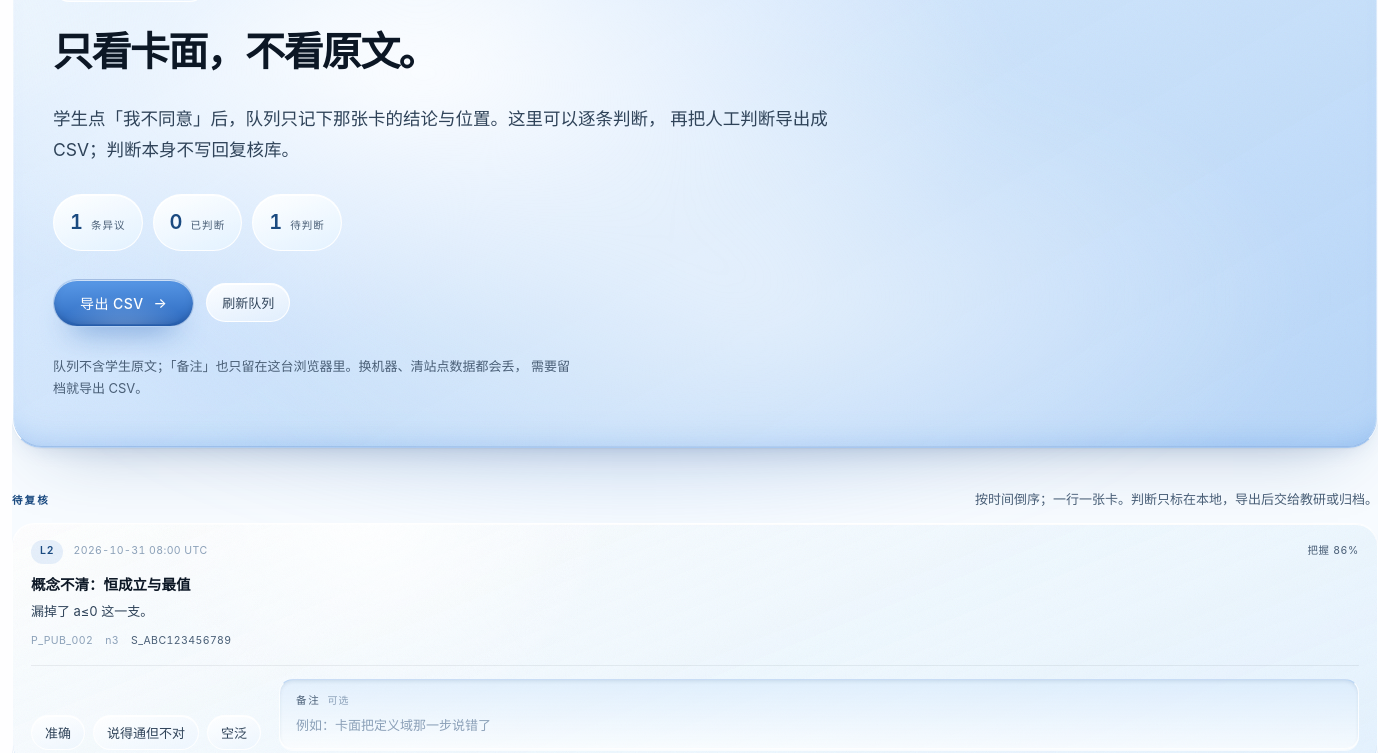
ReviewBoard › exports the queue and the judgment as CSV
(page scrolled)
expect the text "概念不清：恒成立与最值" is shown: met, box [31,576,190,592]
Click the button "准确" at (58, 732), box [31,715,85,750]
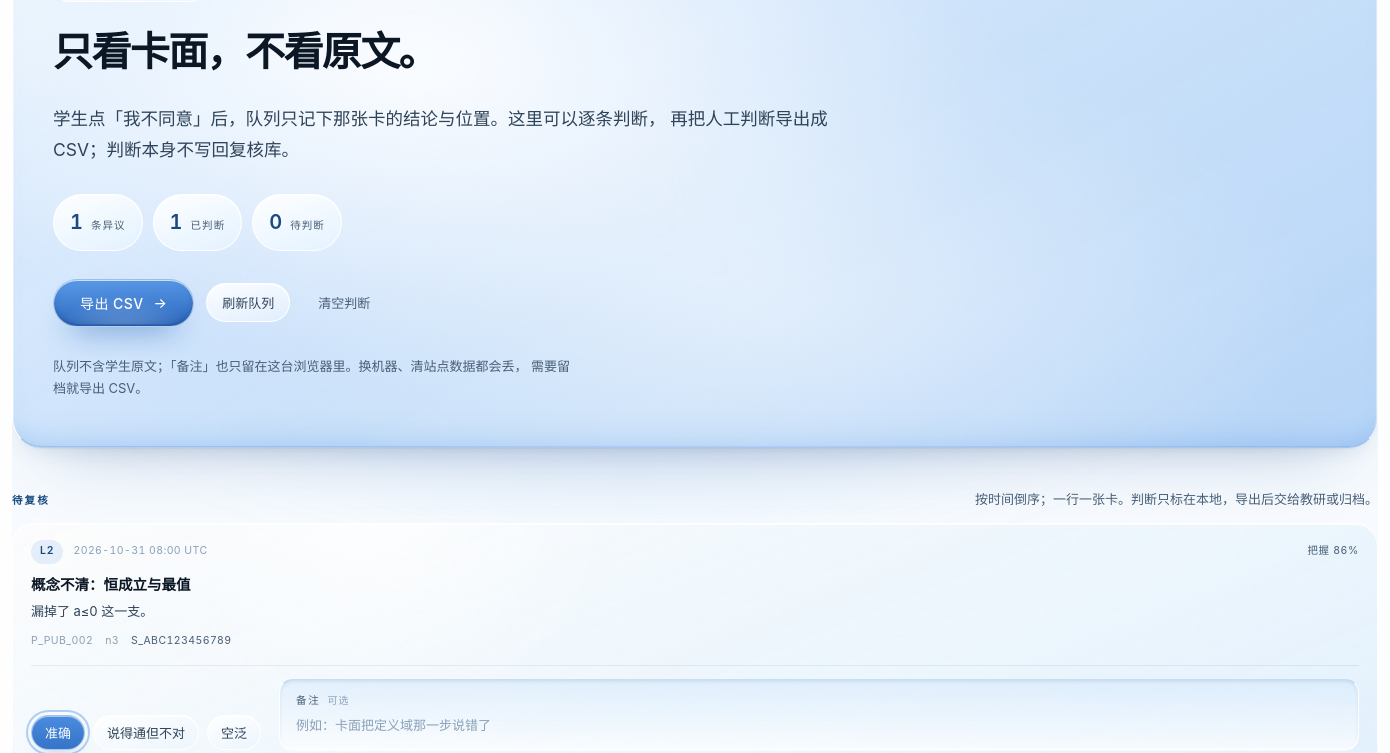
Click the button "导出 CSV →" at (124, 302), box [53,278,194,326]
(page scrolled)
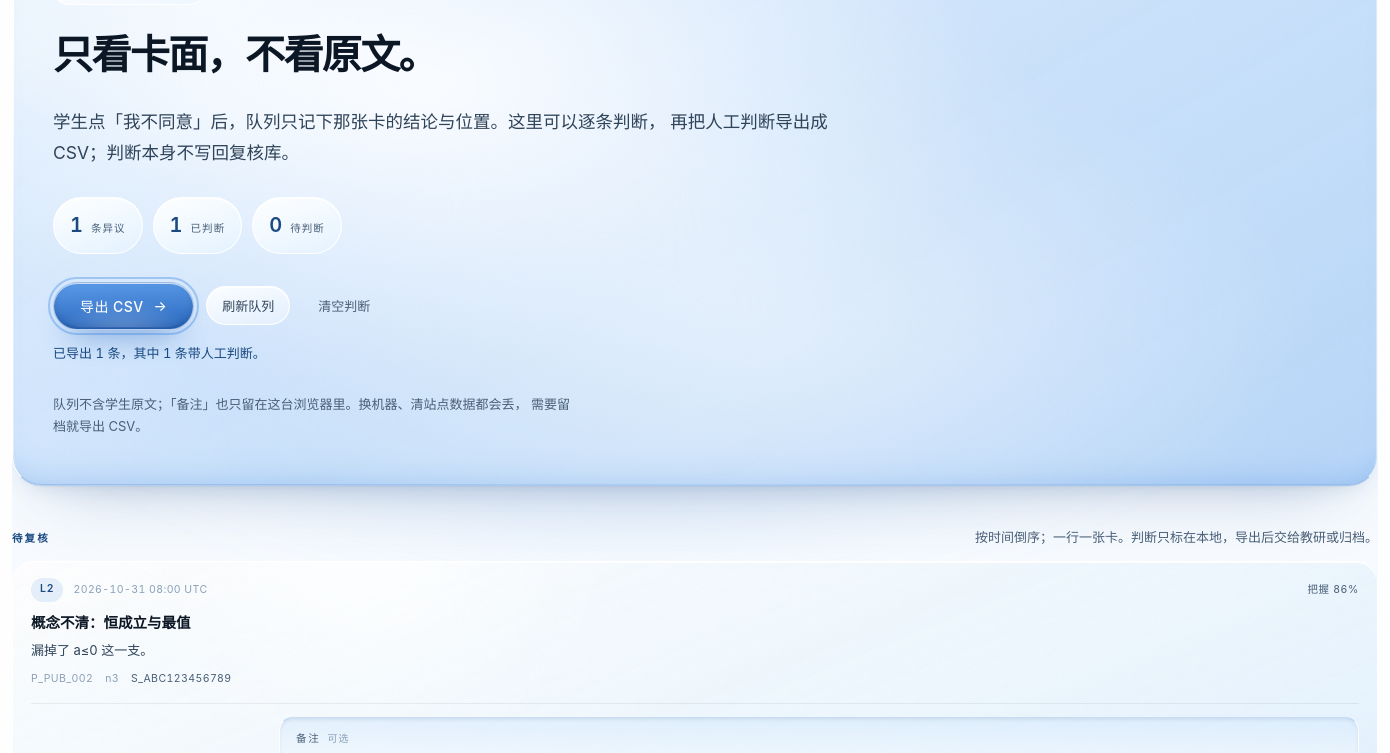
expect the message reads "已导出 1 条，其中 1 条带人工判断。": met, box [53,344,266,360]
